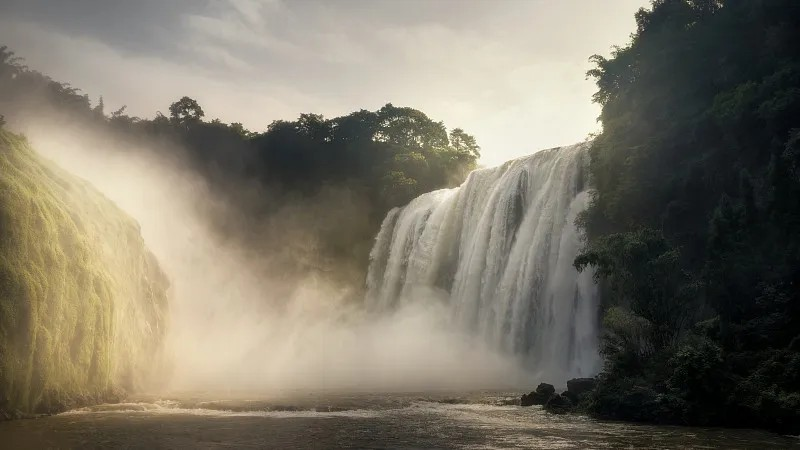Huangguoshu: (369, 141, 601, 393)
